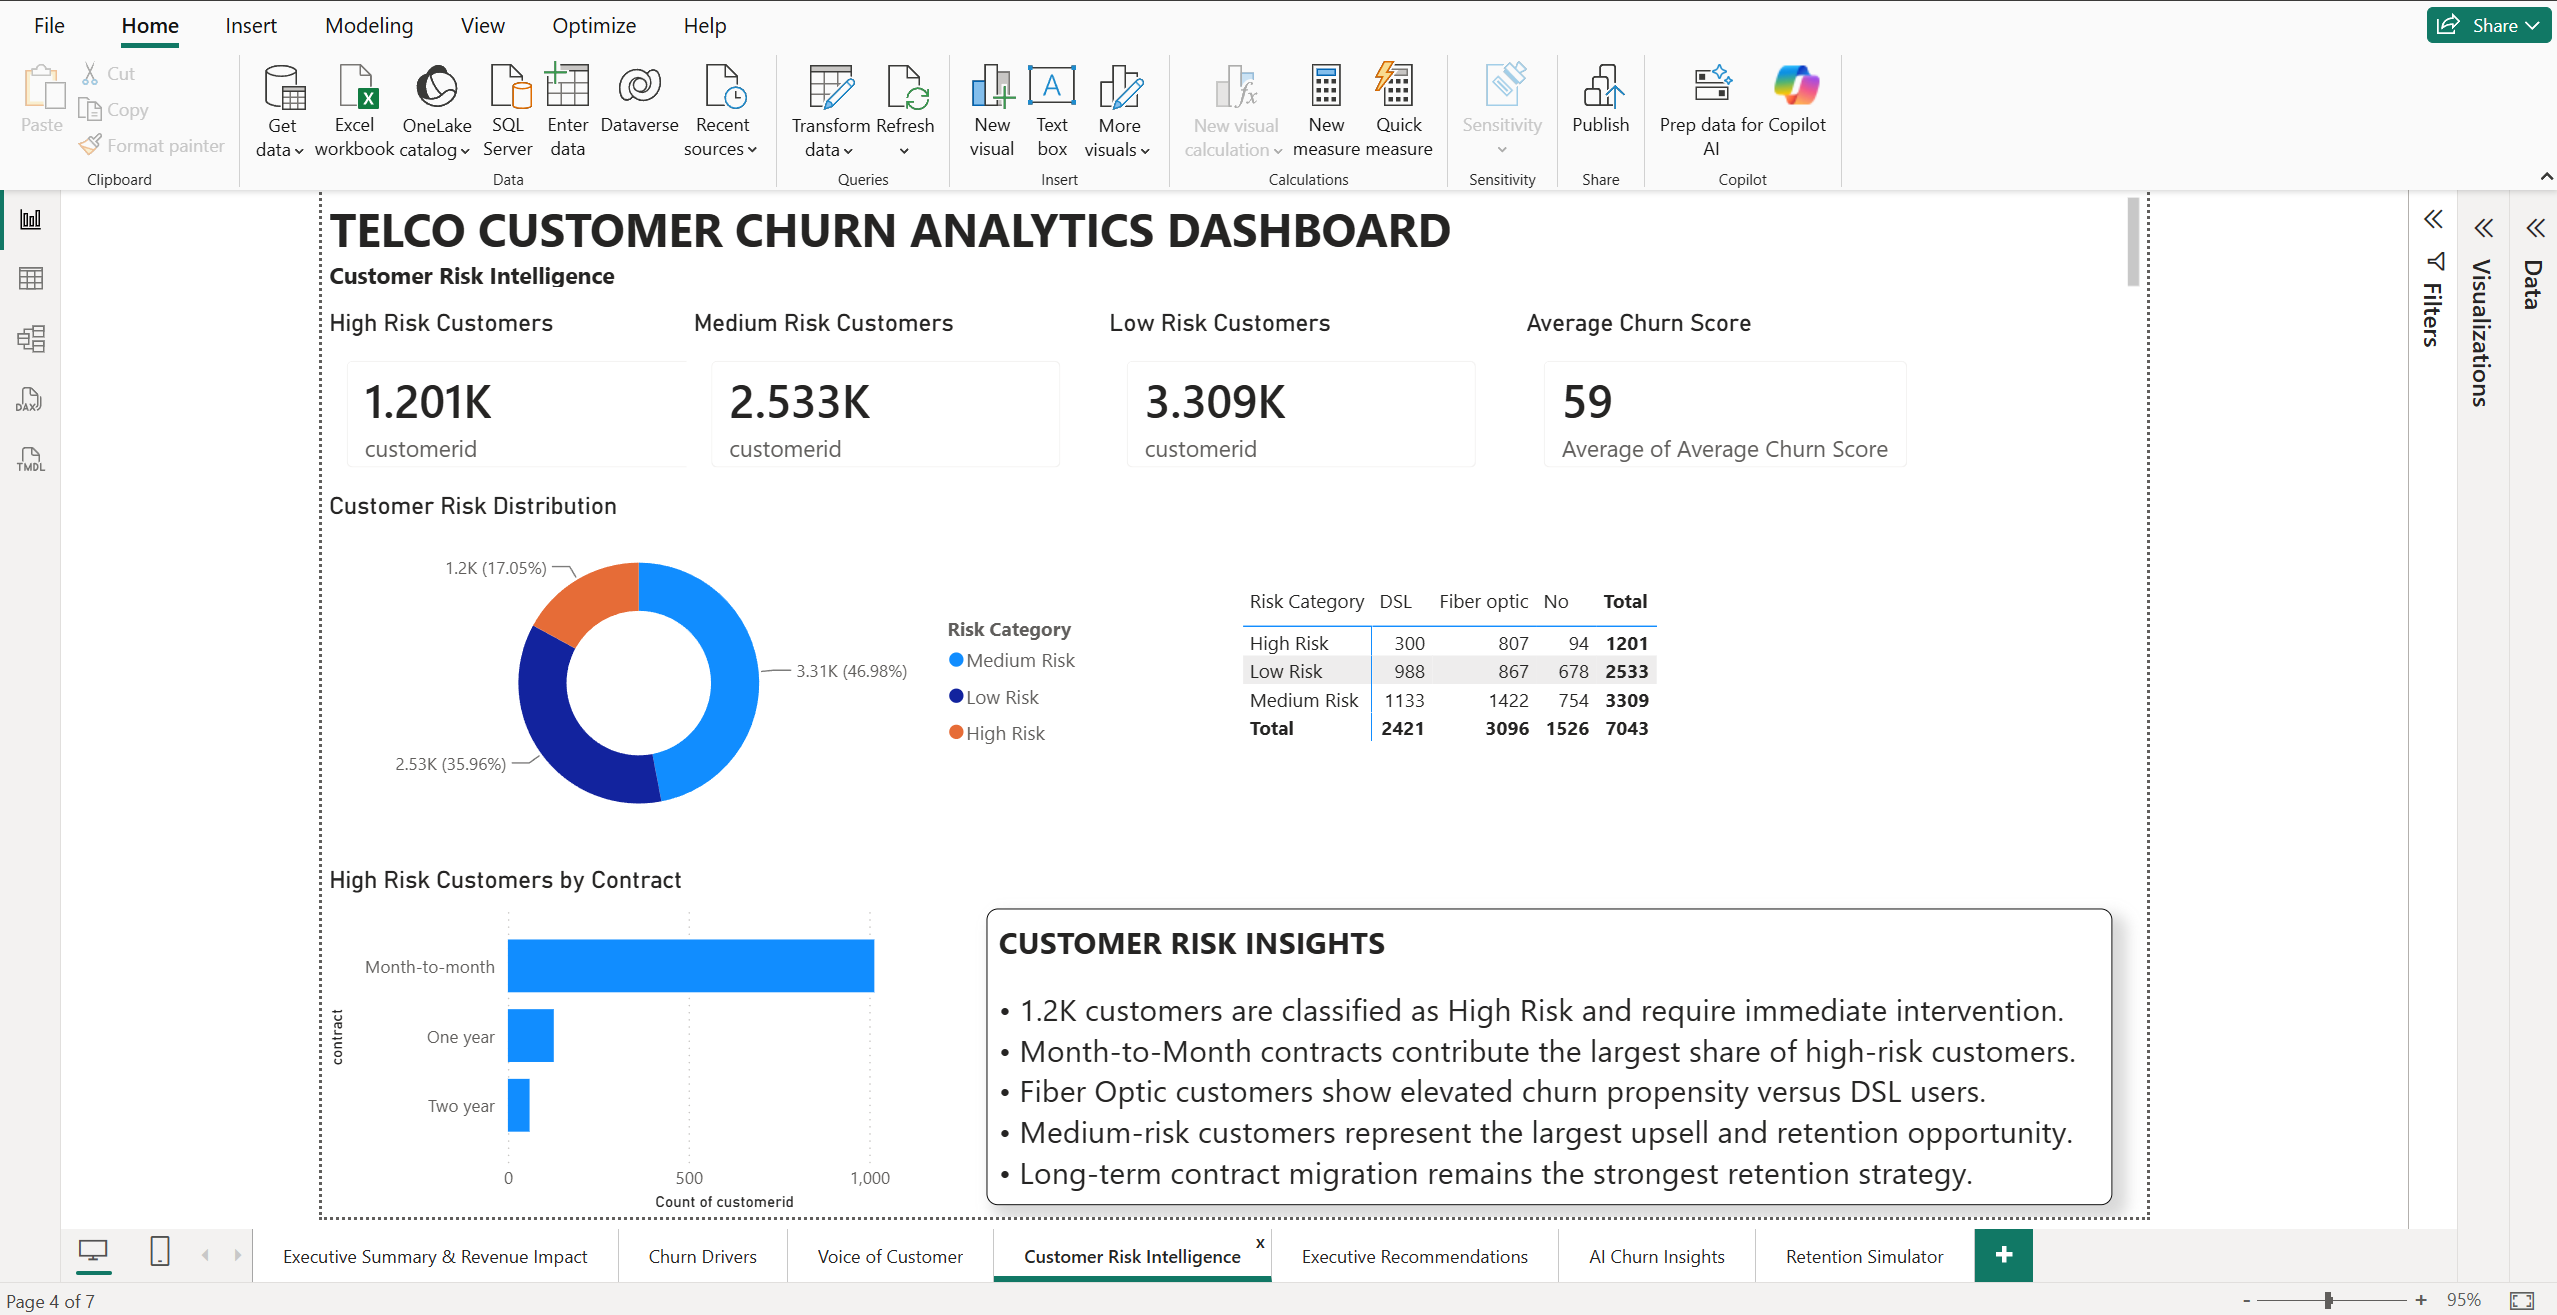

Layout of this report page (visuals, bound fields, positions):
{"tool":"powerbi","page":{"name":"Customer Risk Intelligence","canvas":[1280,720],"ordinal":3},"visuals":[{"type":"cardVisual","title":"Average Churn Score","fields":{"Data":["Avg(Telco.Average Churn Score)"]},"box":[839.6,82.9,289.5,128.5],"z":0},{"type":"cardVisual","title":"High Risk Customers","fields":{"Data":["CountNonNull(Telco.customerid)"]},"box":[0,82.9,279.9,128.5],"z":1000},{"type":"cardVisual","title":"Low Risk Customers","fields":{"Data":["CountNonNull(Telco.customerid)"]},"box":[546.5,82.9,279.9,128.5],"z":2000},{"type":"cardVisual","title":"Medium Risk Customers","fields":{"Data":["CountNonNull(Telco.customerid)"]},"box":[255.8,82.9,279.9,128.5],"z":3000},{"type":"donutChart","title":"Customer Risk Distribution","fields":{"Category":["Telco.Risk Category"],"Y":["CountNonNull(Telco.country)"]},"box":[0,211.4,546.5,248.6],"z":4000},{"type":"clusteredBarChart","title":"High Risk Customers by Contract","fields":{"Category":["Telco.contract"],"Y":["CountNonNull(Telco.customerid)"]},"box":[0,473.2,454,246.2],"z":5000},{"type":"pivotTable","fields":{"Rows":["Telco.Risk Category"],"Columns":["Telco.internet_service"],"Values":["CountNonNull(Telco.customerid)"]},"box":[640.2,272.7,577.7,175.4],"z":6000},{"type":"textbox","box":[466,503.3,789.1,207.8],"z":7000},{"type":"textbox","box":[0,0,1279.2,73.3],"z":8000}]}

Visuals, with their boxes on the page's 1280x720 design canvas (x1, y1, x2, y2). These are canvas units, not pixel positions in the 2557x1315 screenshot, which may show the page scaled, cropped or inside an application window:
"Average Churn Score" cardVisual: pyautogui.locateOnScreen(840, 83, 1129, 211)
"High Risk Customers" cardVisual: pyautogui.locateOnScreen(0, 83, 280, 211)
"Low Risk Customers" cardVisual: pyautogui.locateOnScreen(546, 83, 826, 211)
"Medium Risk Customers" cardVisual: pyautogui.locateOnScreen(256, 83, 536, 211)
"Customer Risk Distribution" donutChart: pyautogui.locateOnScreen(0, 211, 546, 460)
"High Risk Customers by Contract" clusteredBarChart: pyautogui.locateOnScreen(0, 473, 454, 719)
pivotTable - Telco.Risk Category x Telco.internet_service: pyautogui.locateOnScreen(640, 273, 1218, 448)
textbox: pyautogui.locateOnScreen(466, 503, 1255, 711)
textbox: pyautogui.locateOnScreen(0, 0, 1279, 73)
